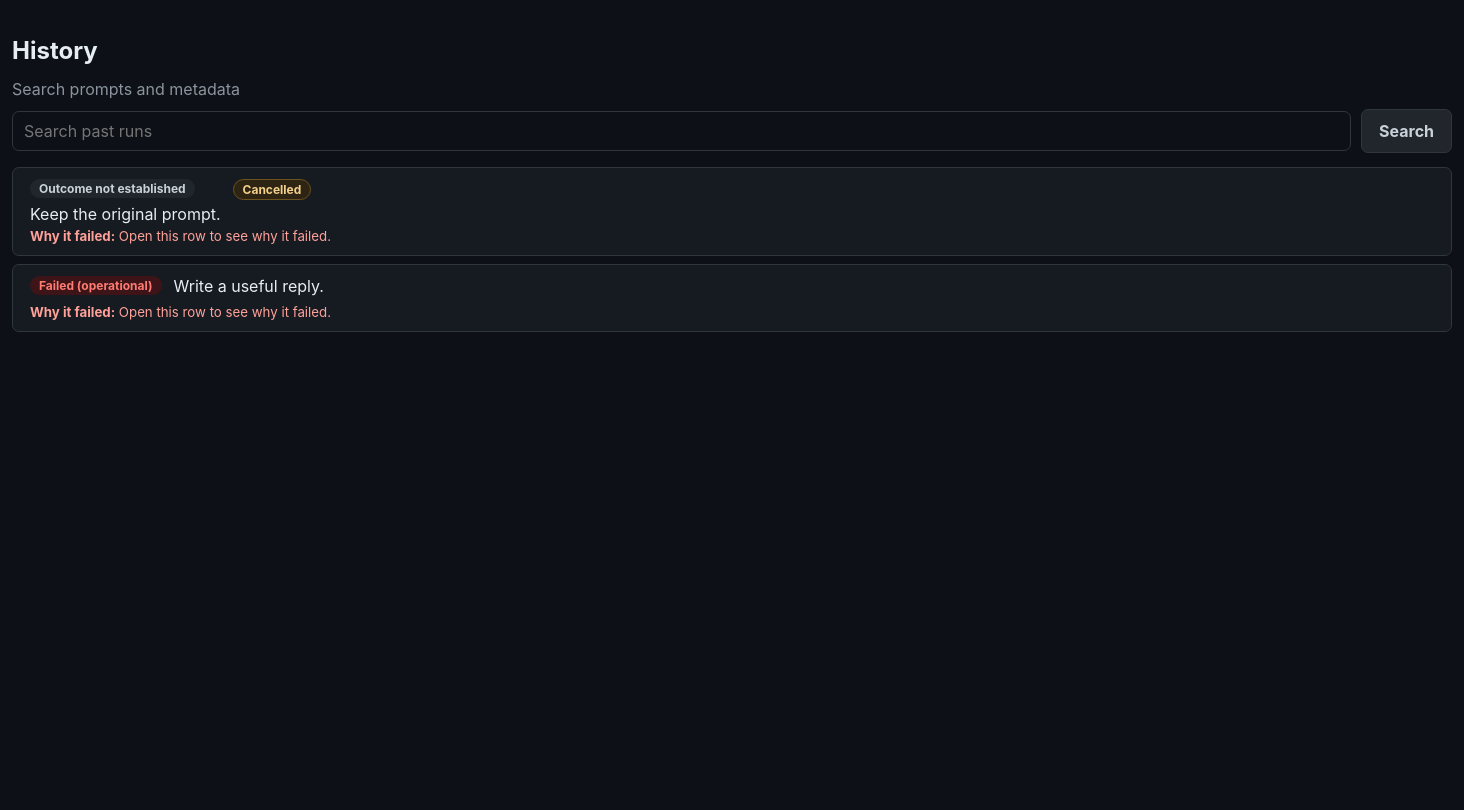
shows cancellation as a control state separate from the legacy outcome
Click the button "Keep the original prompt".
click(112, 188)  # box [12,167,1452,256]
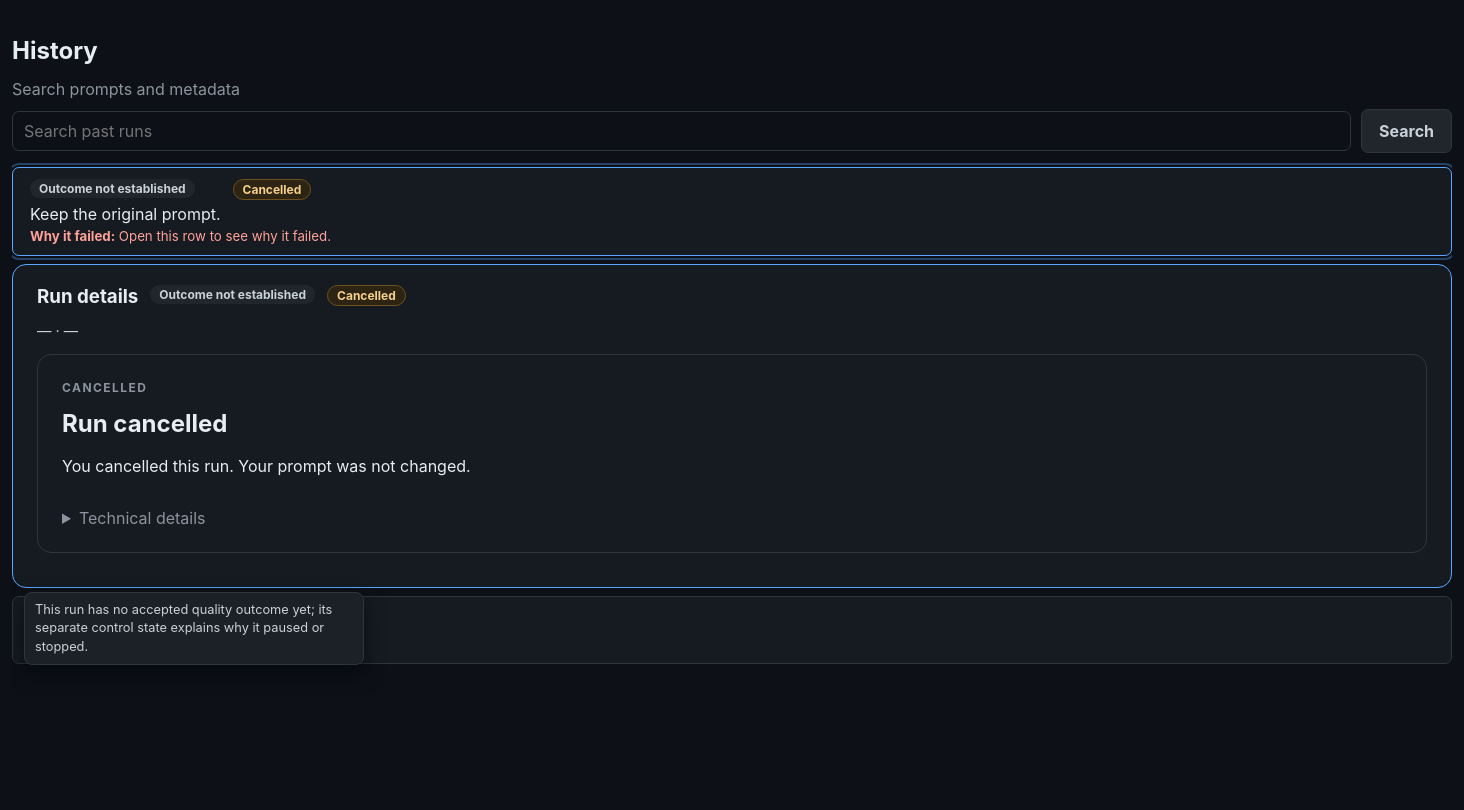
Now the heading "Run details" is shown, box [37,285,138,308]
Now the text "Cancelled" is shown 2 times, box [232,179,311,200]; [327,285,406,306]
Now the heading "Run cancelled" is shown, box [62,409,227,438]
